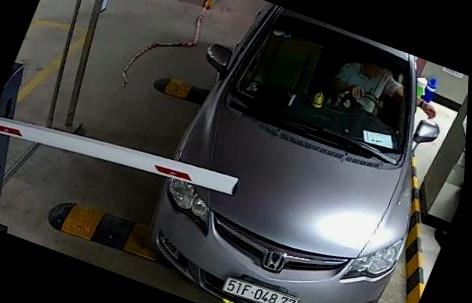License_Plate: (216, 273, 303, 302)
